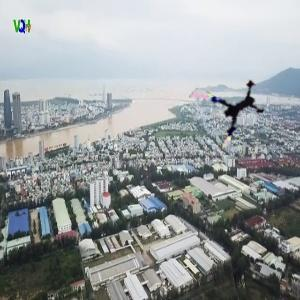drone: (195, 75, 271, 151)
